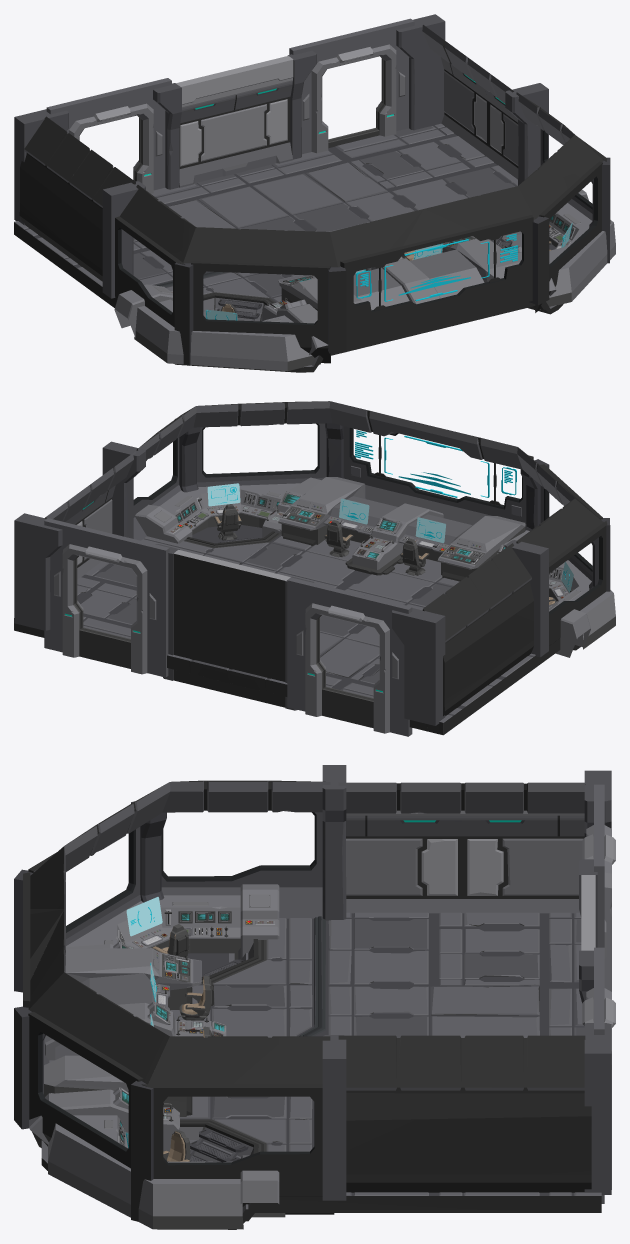
File: Spaceship.glb
3 renders of one model, top to bottom at view 1: azimuth 30°, elevation 25°; view 2: azimuth 150°, elevation 25°; view 3: azimuth 270°, elevation 25°, orthographic. The views are drawn at different scales.
Parts seen in each view (by area): view 1: SpaceshipInterior; view 2: SpaceshipInterior; view 3: SpaceshipInterior.
Part boxes in pixels (<box>): SpaceshipInterior: <box>14,14,615,372</box>; SpaceshipInterior: <box>14,401,615,736</box>; SpaceshipInterior: <box>14,765,615,1229</box>.
Size of what is drawn, in the model's own units: 19.08 by 5.16 by 15.61.
Materials: 4 (3 with a texture image).
